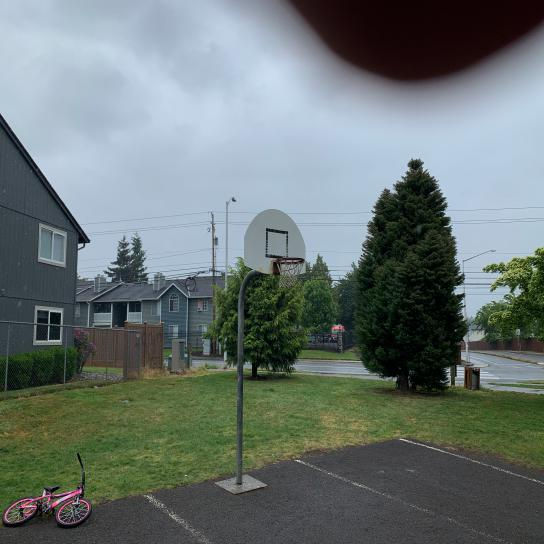basketball-hoop: (276, 256, 306, 290)
